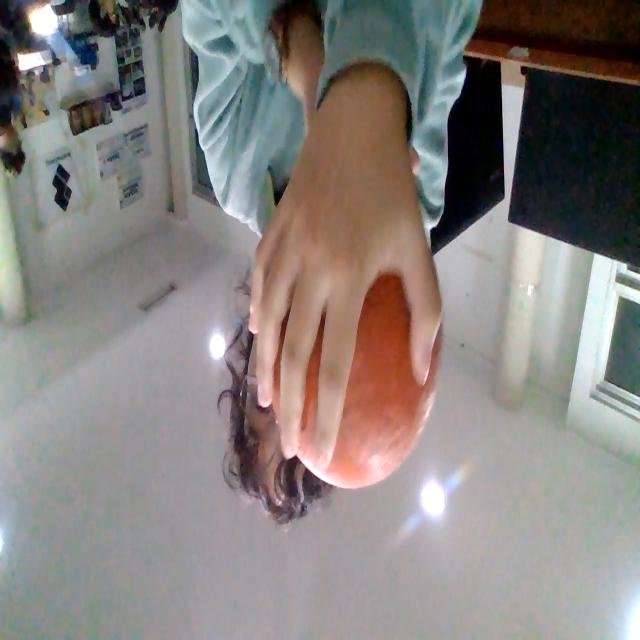ball: (270, 271, 443, 491)
